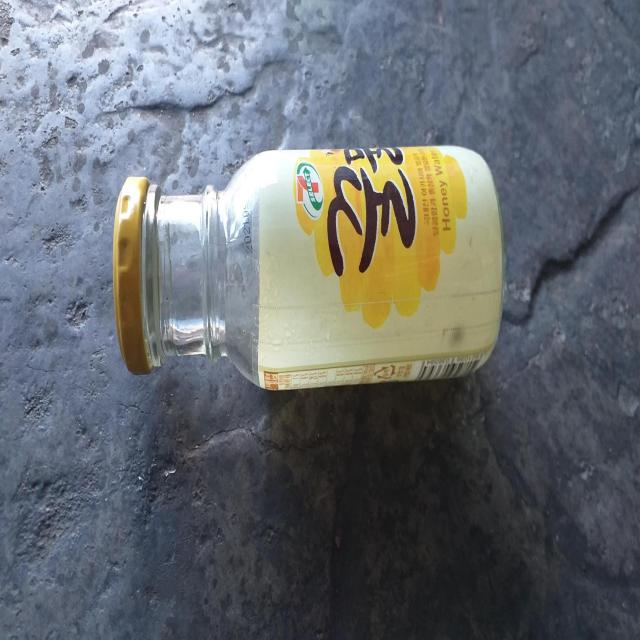glass: (112, 145, 505, 390)
